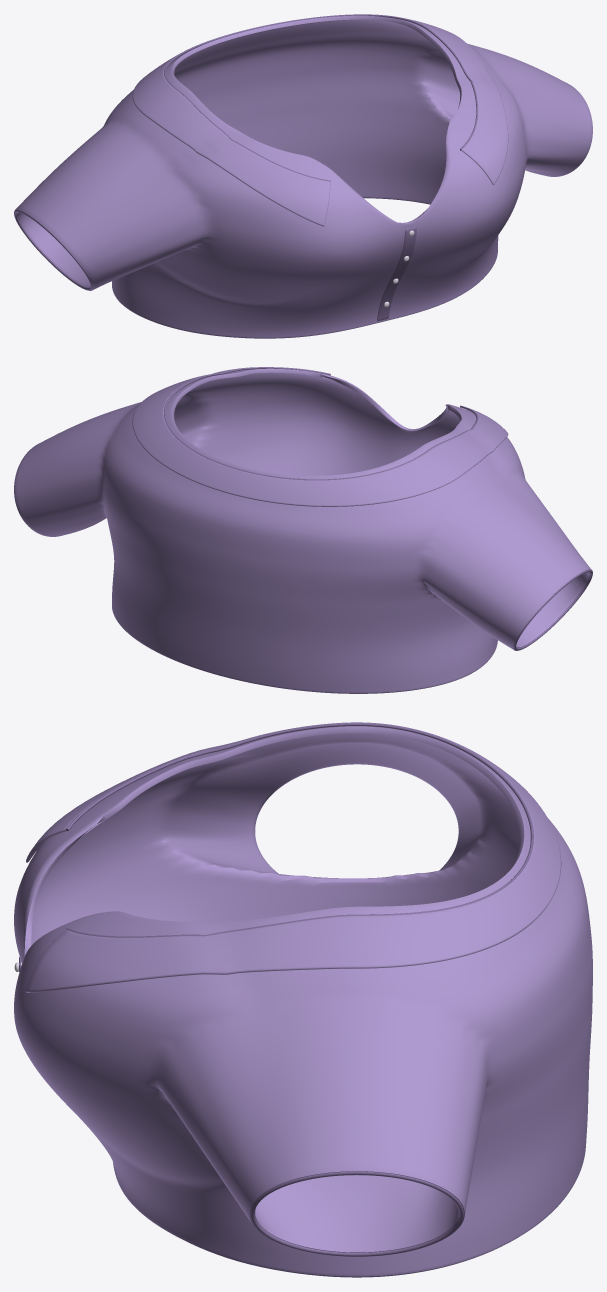
The model's file is Feminine-buttonup.glb.
The picture shows the model from 3 angles, top to bottom: view 1: azimuth 30°, elevation 25°; view 2: azimuth 150°, elevation 25°; view 3: azimuth 270°, elevation 25°; orthographic projection. The views are drawn at different scales.
Parts seen in each view (by area): view 1: Clothing / tshirt, Button-up / continuous folded collar, Button-up / collar root export, Button-up / lower closed placket, Sleeve / soft cuff -1 export; view 2: Clothing / tshirt, Button-up / continuous folded collar, Button-up / collar root export, Sleeve / soft cuff -1 export; view 3: Clothing / tshirt, Button-up / continuous folded collar, Button-up / collar root export, Sleeve / soft cuff 1 export.
Part boxes in pixels (left/top/right/bottom): Clothing / tshirt: left=14, top=15, right=592, bottom=338; Button-up / continuous folded collar: left=132, top=17, right=508, bottom=226; Button-up / collar root export: left=164, top=14, right=477, bottom=181; Button-up / lower closed placket: left=377, top=227, right=416, bottom=321; Sleeve / soft cuff -1 export: left=14, top=210, right=92, bottom=290; Clothing / tshirt: left=14, top=368, right=592, bottom=693; Button-up / continuous folded collar: left=132, top=368, right=508, bottom=506; Button-up / collar root export: left=164, top=367, right=477, bottom=480; Sleeve / soft cuff -1 export: left=513, top=570, right=592, bottom=650; Clothing / tshirt: left=14, top=726, right=592, bottom=1276; Button-up / continuous folded collar: left=26, top=722, right=561, bottom=992; Button-up / collar root export: left=66, top=723, right=533, bottom=937; Sleeve / soft cuff 1 export: left=250, top=1171, right=463, bottom=1256.
Bounding box in the file's own units: 0.9343 × 0.3437 × 0.5529.
